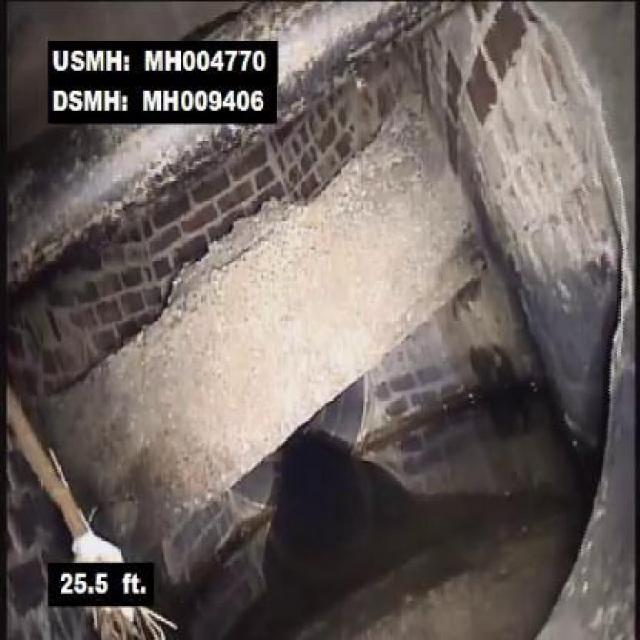Utility intrusion: (35, 97, 571, 549), (11, 126, 246, 300), (279, 0, 506, 94)
